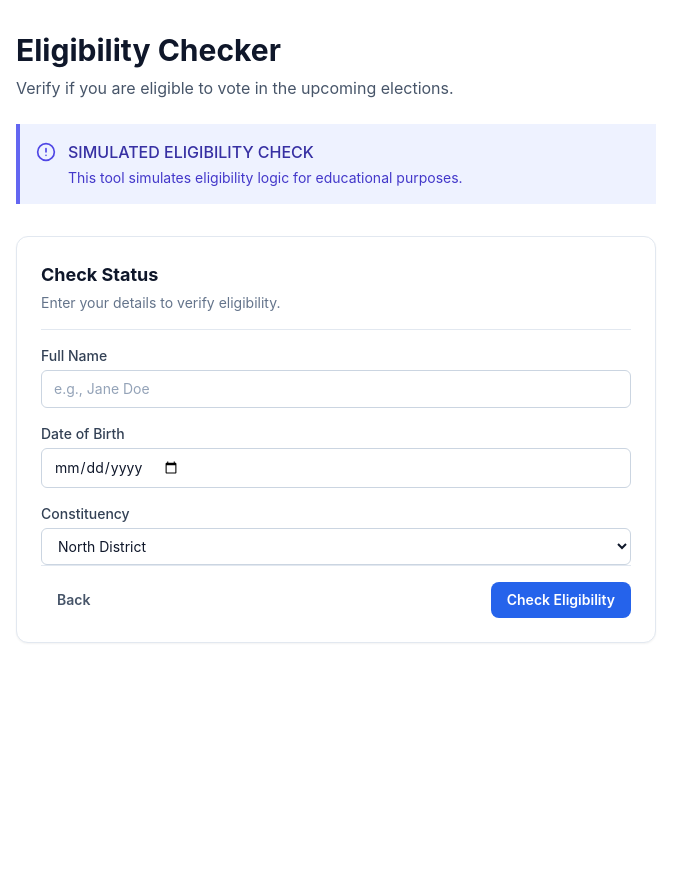
EligibilityCheckerPage Component › submits the form and renders eligible result
Type "Aarav Sharma" into the field labelled "Full Name" at (336, 389), box x1=41 y1=370 x2=631 y2=408
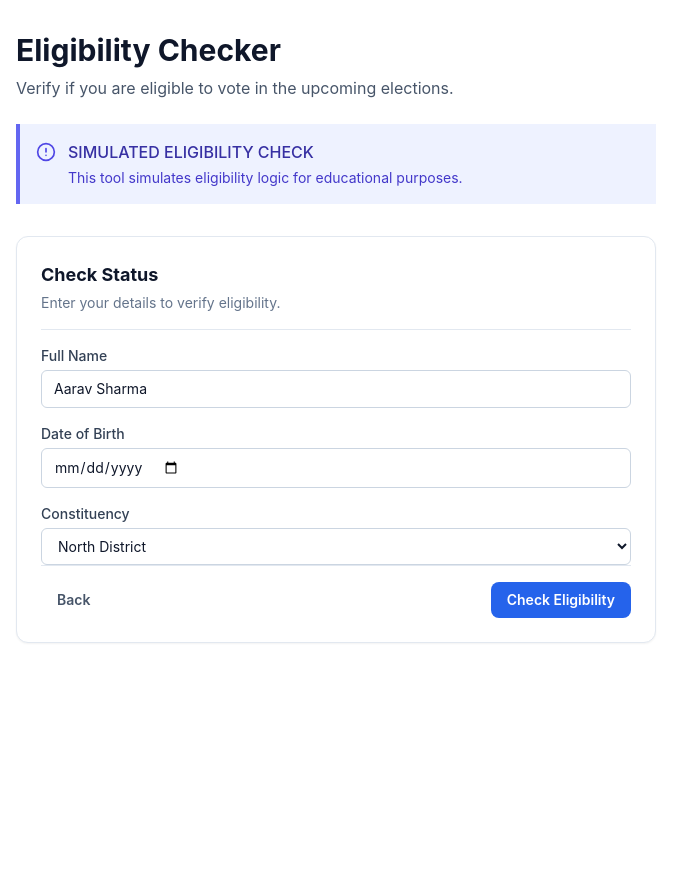
Type "1995-05-15" into the date field labelled "Date of Birth" at (336, 468), box x1=41 y1=448 x2=631 y2=488
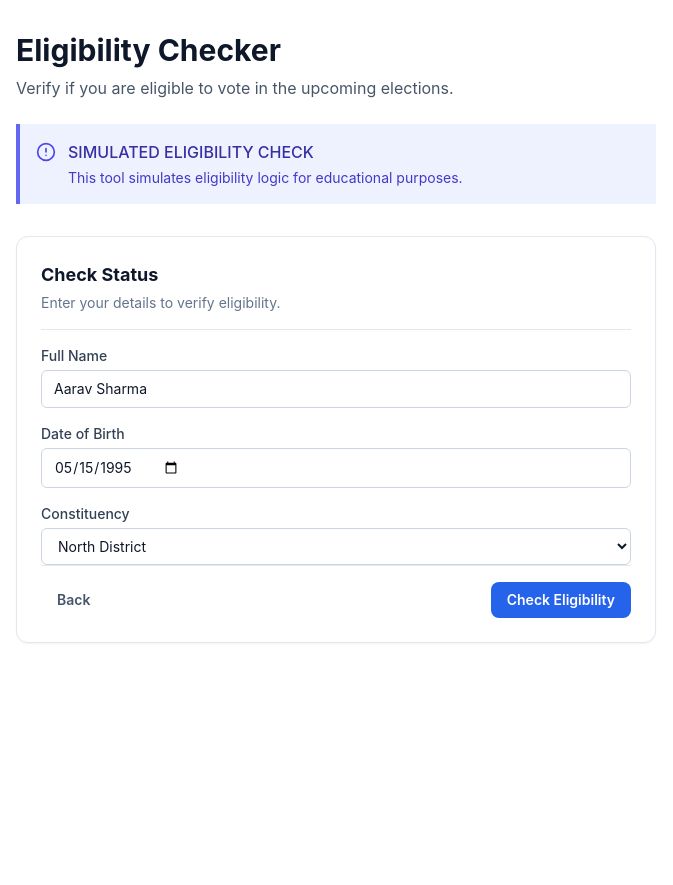
Select "North District" in the dropdown labelled "Constituency" at (336, 546), box x1=41 y1=528 x2=631 y2=565
Click the button "Check Eligibility" at (561, 600), box x1=491 y1=582 x2=631 y2=618
(page scrolled)
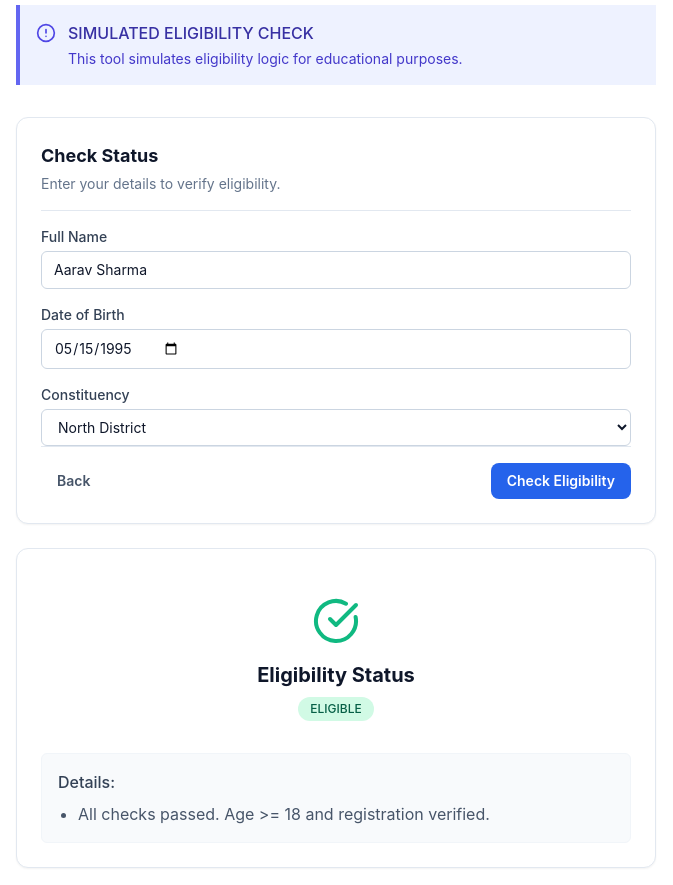
Expected: the heading "Eligibility Status" is shown, x1=257 y1=661 x2=415 y2=689
Expected: the text "ELIGIBLE" is shown, x1=298 y1=697 x2=374 y2=721
Expected: the list item "All checks passed. Age >= 18 and registration verified." is shown, x1=78 y1=804 x2=490 y2=824
